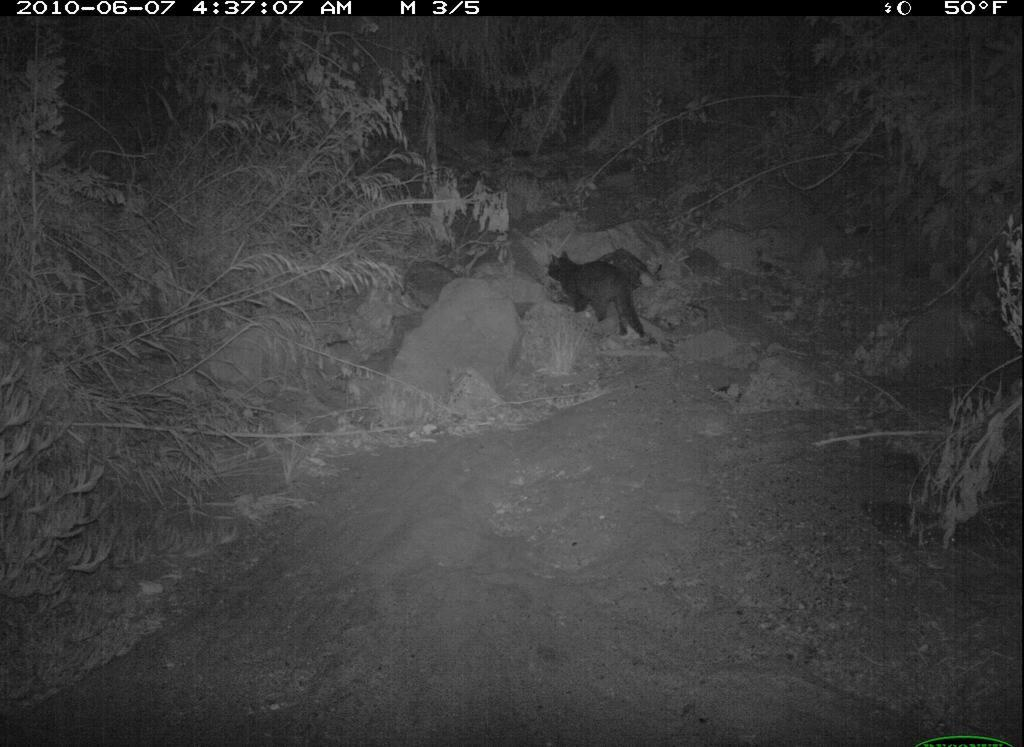cat: (546, 246, 653, 347)
